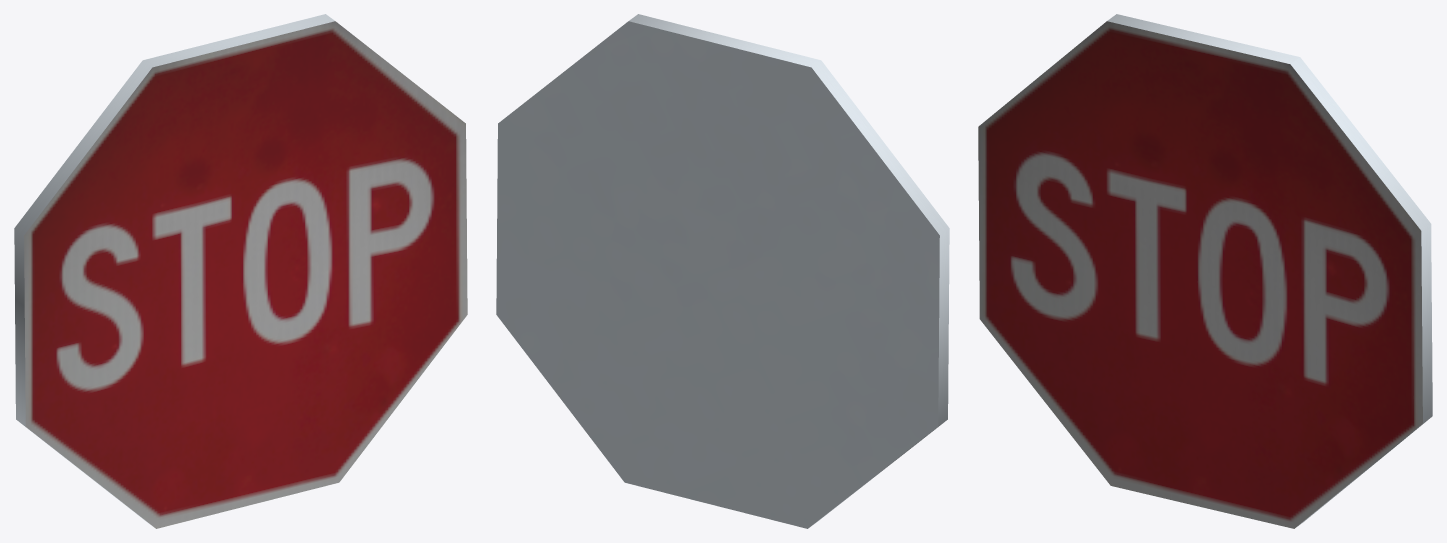
Rendered from SIgnBoard_13.fbx.
3 views of the same model, side by side, from view 1: azimuth 30°, elevation 25°; view 2: azimuth 150°, elevation 25°; view 3: azimuth 330°, elevation 25° (orthographic).
Visible parts, largest first — view 1: SIgnBoard_13; view 2: SIgnBoard_13; view 3: SIgnBoard_13.
Boxes of the visible parts, box(x1,y1,x2,y2) form: SIgnBoard_13: box(14, 14, 467, 528); SIgnBoard_13: box(496, 14, 949, 528); SIgnBoard_13: box(978, 14, 1432, 528).
Size of the model in its own units: 0.8623 by 0.8623 by 0.0329.
